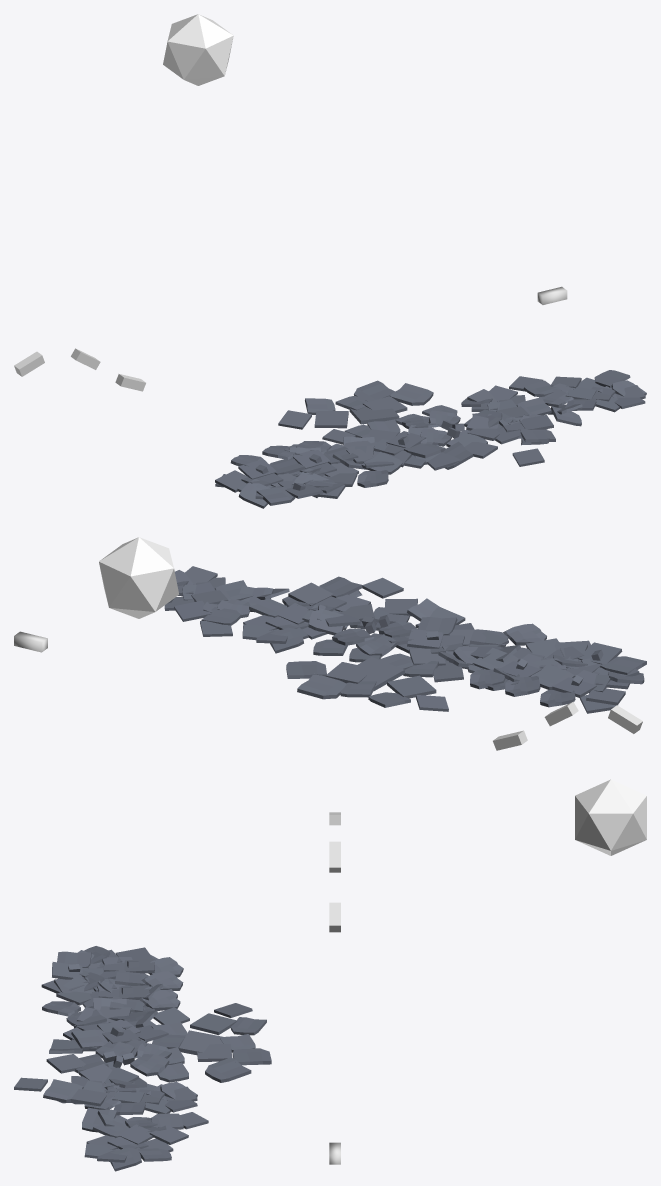
The model's file is road.gltf.
3 renders of one model, top to bottom at view 1: azimuth 30°, elevation 25°; view 2: azimuth 150°, elevation 25°; view 3: azimuth 270°, elevation 25°, orthographic. The views are drawn at different scales.
Parts seen in each view (by area): view 1: StoneTile1, StoneTiles3, StoneTiles2, Leaf3_convex_colider; view 2: StoneTile1, StoneTiles3, StoneTiles2, Leaf3_convex_colider, LaneMarking.002, LaneMarking, LaneMarking.001, LaneMarking.003; view 3: StoneTile1, StoneTiles3, StoneTiles2, Leaf3_convex_colider.
Part boxes in pixels (x1=…): StoneTile1: x1=215, y1=409, x2=555, y2=508; StoneTiles3: x1=328, y1=370, x2=646, y2=466; StoneTiles2: x1=278, y1=380, x2=457, y2=444; Leaf3_convex_colider: x1=163, y1=14, x2=233, y2=85; StoneTile1: x1=288, y1=576, x2=646, y2=713; StoneTiles3: x1=164, y1=566, x2=485, y2=673; StoneTiles2: x1=286, y1=639, x2=463, y2=711; Leaf3_convex_colider: x1=99, y1=537, x2=179, y2=618; LaneMarking.002: x1=608, y1=705, x2=642, y2=733; LaneMarking: x1=14, y1=631, x2=47, y2=652; LaneMarking.001: x1=493, y1=730, x2=527, y2=750; LaneMarking.003: x1=544, y1=701, x2=578, y2=726; StoneTile1: x1=41, y1=946, x2=183, y2=1106; StoneTiles3: x1=14, y1=1004, x2=208, y2=1171; StoneTiles2: x1=151, y1=1003, x2=271, y2=1082; Leaf3_convex_colider: x1=575, y1=779, x2=646, y2=855.
Size of what is drawn, in the model's own units: 3.8 by 1.75 by 3.57.
